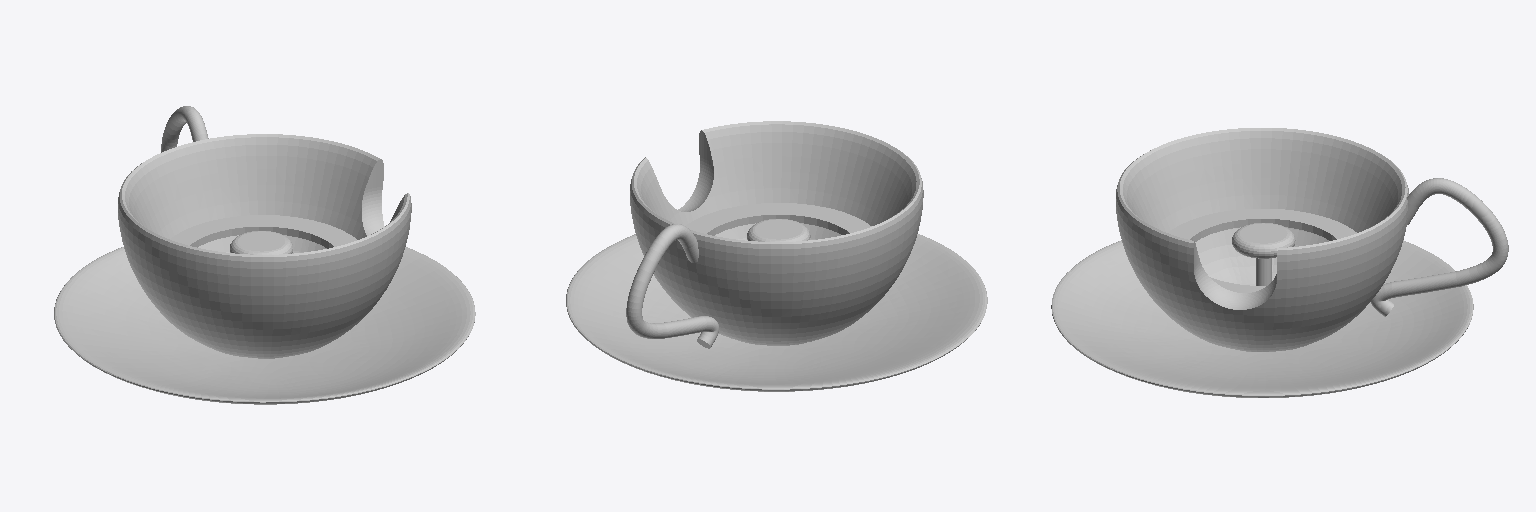
The model's file is TeaCup7.obj.
3 renders of one model, left to right at view 1: azimuth 30°, elevation 25°; view 2: azimuth 150°, elevation 25°; view 3: azimuth 270°, elevation 25°, orthographic.
Bounding box in the file's own units: 106 × 46.94 × 115.